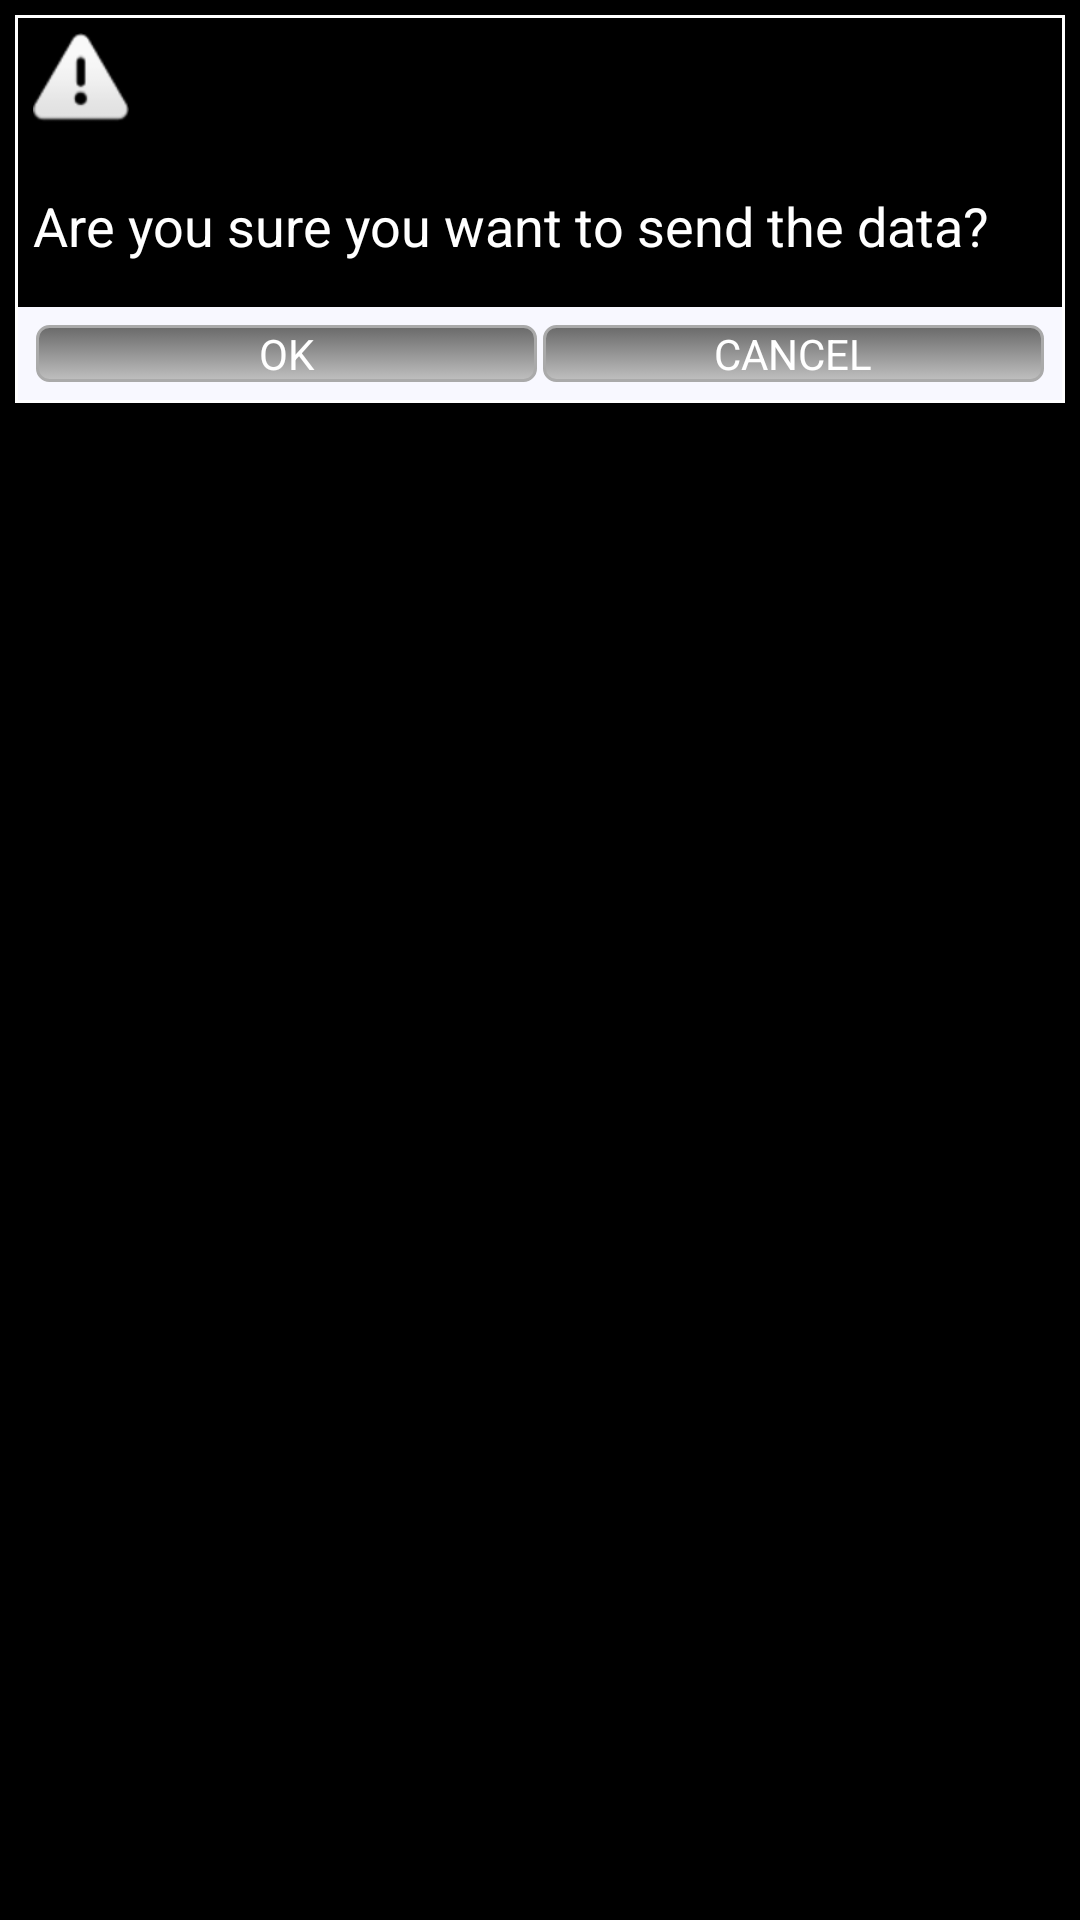

Where to tap for icons on this 1080w x 1920h app screen, as (x,y):
alert: (81,76)
